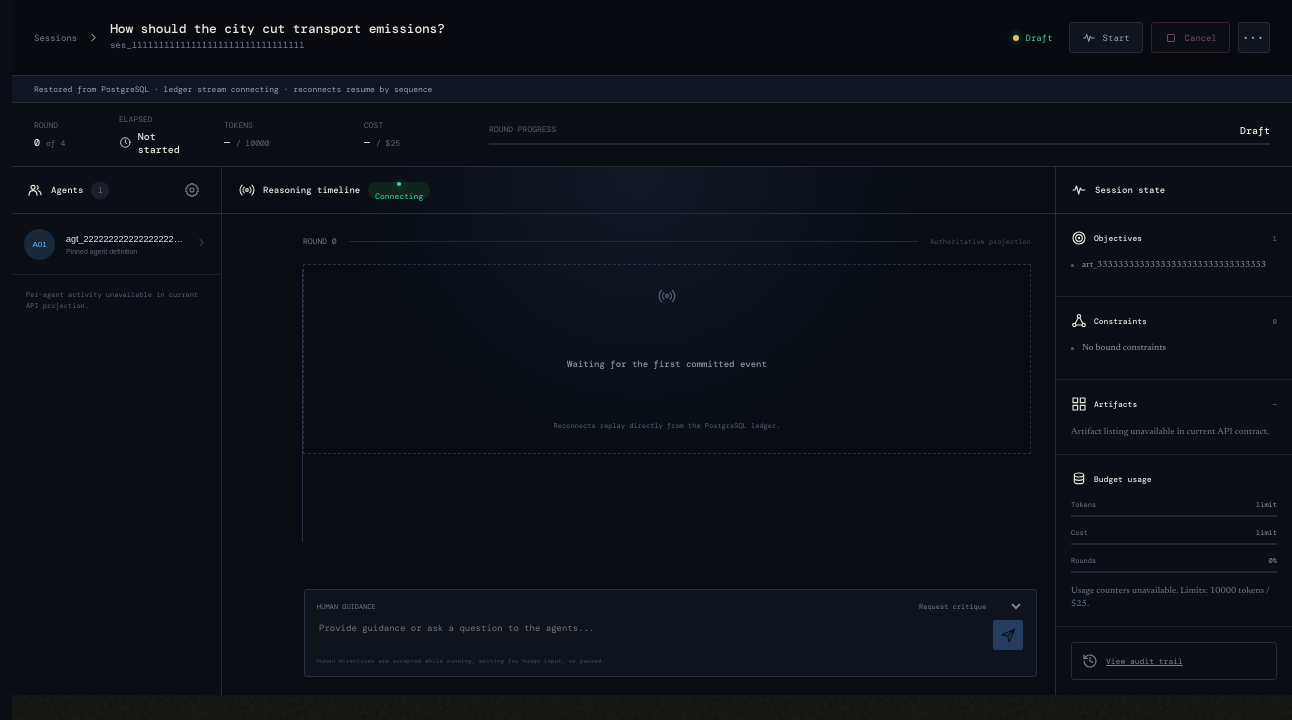
Test: ReasoningPage live console › starts and monitors an API-backed draft without showing sample evidence
The image size is (1292, 720).
expect the heading "How should the city cut transport emissions?" is shown: met, box 110,24 -> 445,34
expect the text "Per-agent activity unavailable in current API projection." is shown: met, box 26,290 -> 198,310
Click the button "Start" at (1106, 38), box 1069,22 -> 1143,53
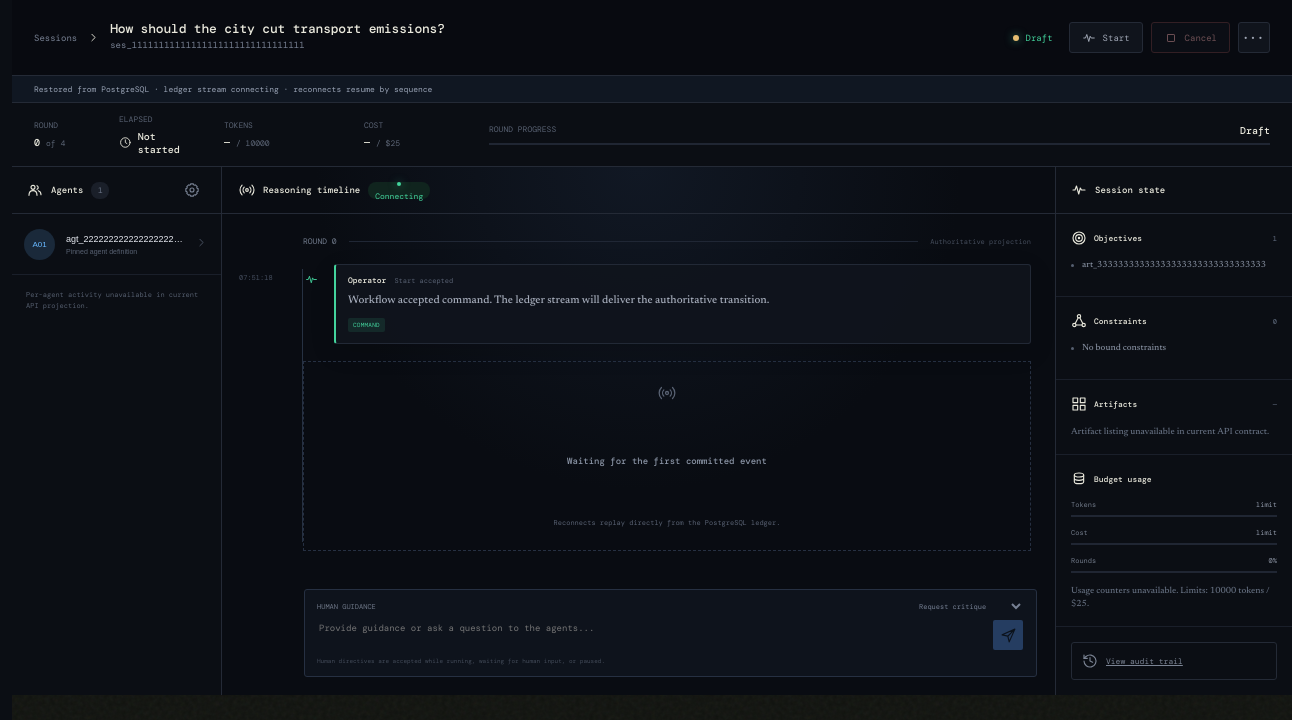
expect the text "Draft" is shown 2 times: met, box 1013,32 -> 1053,44; 1240,124 -> 1270,137
expect the text "Start accepted" is shown: met, box 394,276 -> 453,284
